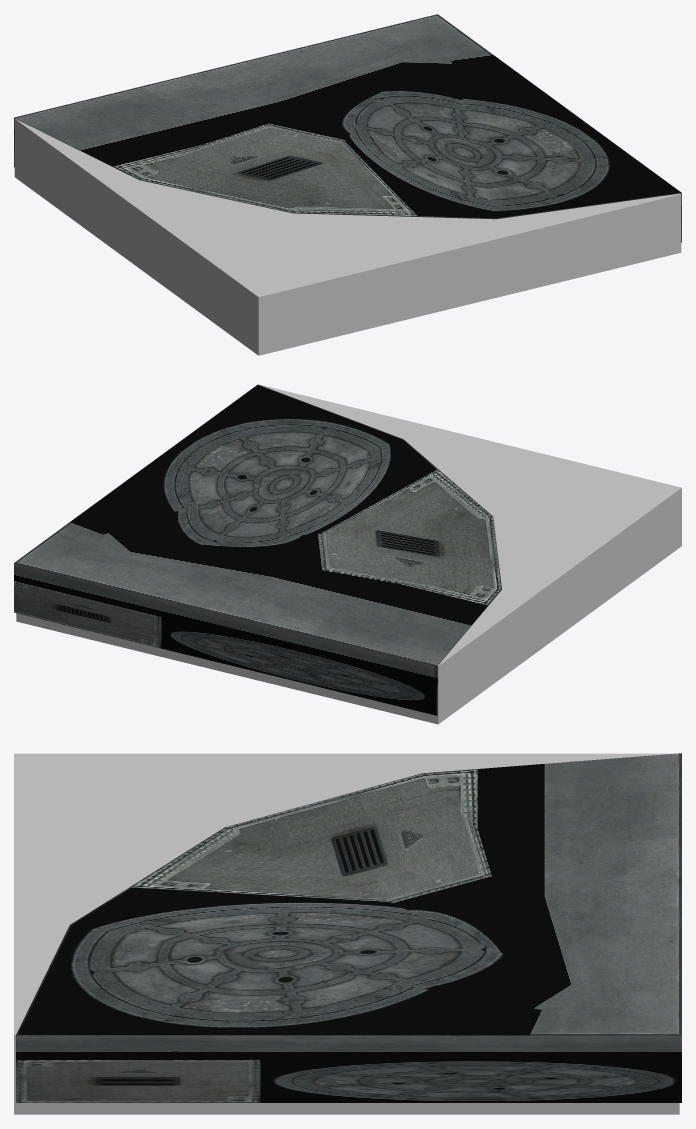
File: Sidewalk_outercorner.DAE
3 views of the same model, one above another, from view 1: azimuth 30°, elevation 25°; view 2: azimuth 150°, elevation 25°; view 3: azimuth 270°, elevation 25° (orthographic). The views are drawn at different scales.
Parts seen in each view (by area): view 1: col-1, bounds; view 2: col-1, bounds; view 3: col-1, bounds.
Part boxes in pixels (x1=…): col-1: x1=14, y1=14, x2=681, y2=242; bounds: x1=14, y1=118, x2=681, y2=355; col-1: x1=14, y1=384, x2=501, y2=715; bounds: x1=16, y1=385, x2=681, y2=724; col-1: x1=16, y1=753, x2=681, y2=1102; bounds: x1=14, y1=753, x2=679, y2=1114.
Size of the model in its own units: 191 by 191 by 25.35.
